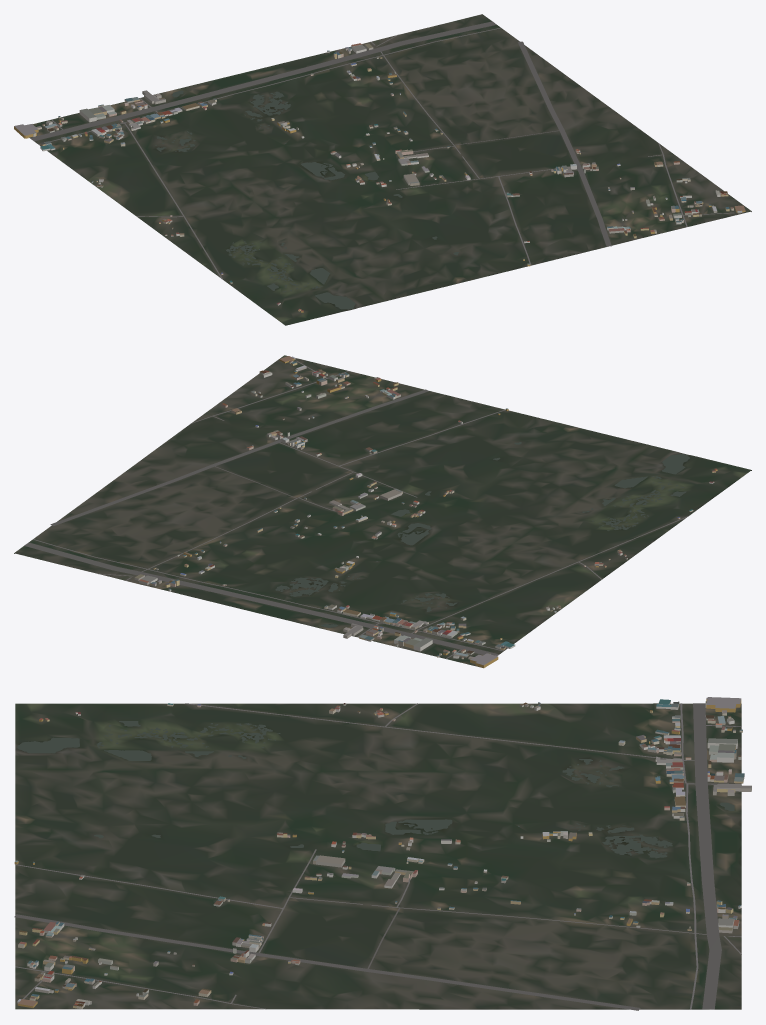
The picture shows the model from 3 angles, top to bottom: view 1: azimuth 30°, elevation 25°; view 2: azimuth 150°, elevation 25°; view 3: azimuth 270°, elevation 25°; orthographic projection. The views are drawn at different scales.
Parts seen in each view (by area): view 1: ground, buildings, roads, water; view 2: ground, buildings, roads, water; view 3: ground, buildings, roads, water.
Boxes of the visible parts, <box> form: ground: <box>29,14,751,325</box>; buildings: <box>14,43,745,312</box>; roads: <box>30,21,734,279</box>; water: <box>155,90,458,309</box>; ground: <box>14,355,751,667</box>; buildings: <box>134,356,717,668</box>; roads: <box>24,360,688,658</box>; water: <box>275,442,689,627</box>; ground: <box>15,703,741,1009</box>; buildings: <box>14,697,751,1009</box>; roads: <box>14,703,741,1010</box>; water: <box>17,721,734,858</box>.
Bounding box in the file's own units: 1419 × 19.08 × 1424.
